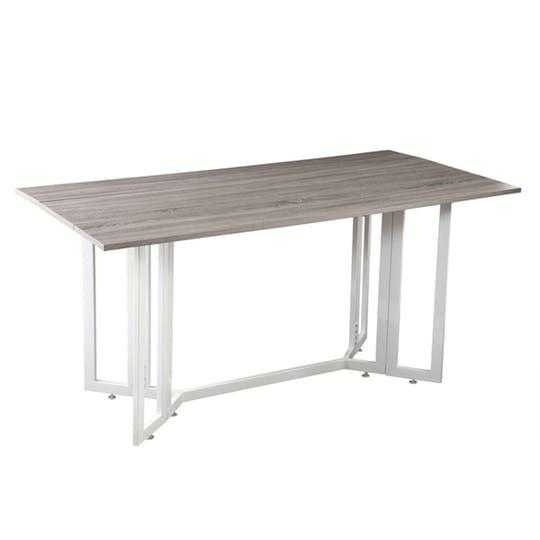obstacle: (20, 150, 519, 444)
